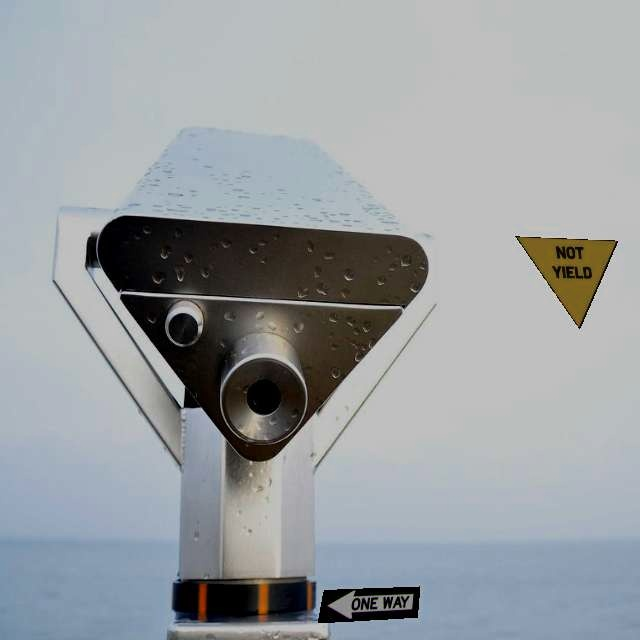NOT_YIELD: (515, 236, 618, 329)
ONE_WAY_ left: (317, 586, 420, 623)
